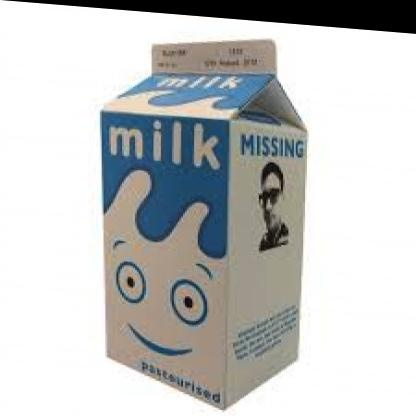trash: (101, 40, 306, 407)
